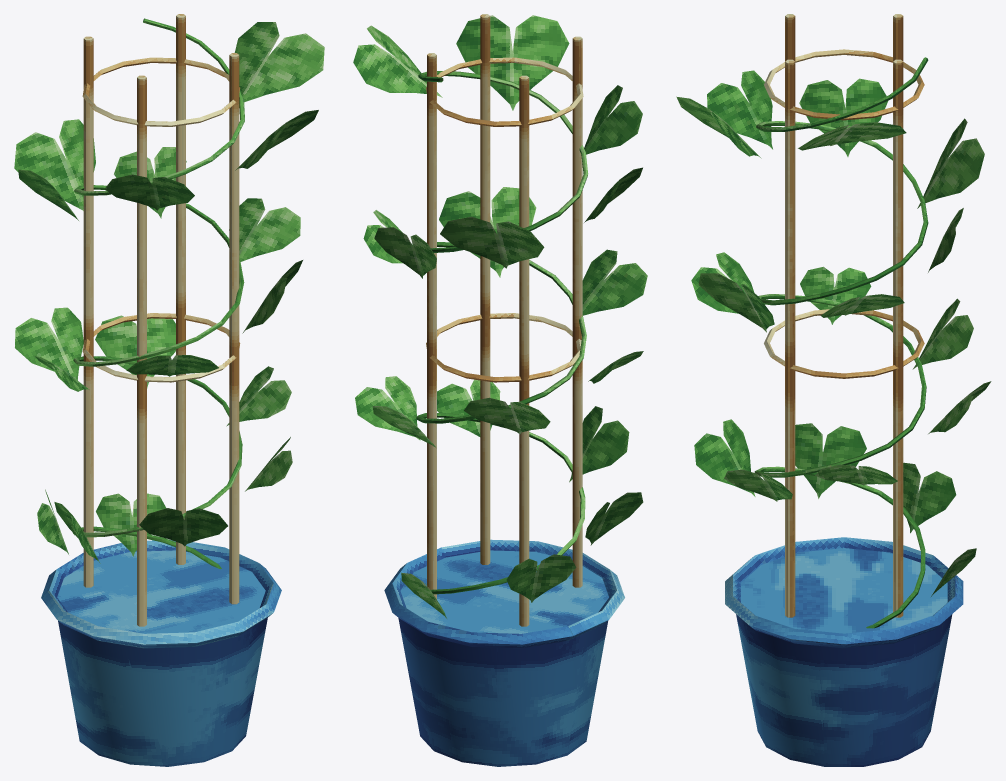
File: asagao_vine.glb
The picture shows the model from 3 angles, left to right: view 1: azimuth 30°, elevation 25°; view 2: azimuth 150°, elevation 25°; view 3: azimuth 270°, elevation 25°; orthographic projection.
Parts seen in each view (by area): view 1: mesh; view 2: mesh; view 3: mesh.
Boxes of the visible parts, left/top/right/bottom form: mesh: left=14, top=14, right=324, bottom=766; mesh: left=353, top=14, right=647, bottom=766; mesh: left=676, top=14, right=991, bottom=766.
Size of the model in its own units: 0.3195 by 0.76 by 0.3136.
1 material, 1 textured.
